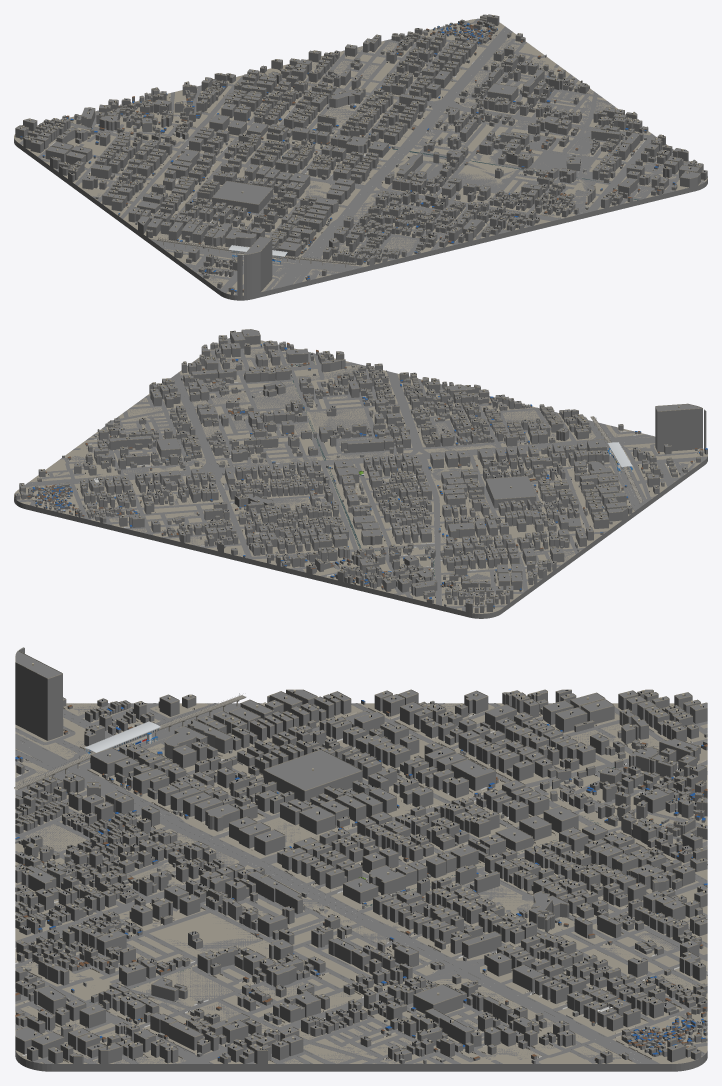
3 views of the same model, one above another, from view 1: azimuth 30°, elevation 25°; view 2: azimuth 150°, elevation 25°; view 3: azimuth 270°, elevation 25° (orthographic). The views are drawn at different scales.
Parts seen in each view (by area): view 1: context, ground, rooftops, plinth, compound_walls, metro; view 2: context, ground, rooftops, plinth, compound_walls; view 3: context, ground, rooftops, plinth, compound_walls, stations, metro.
Boxes of the visible parts, x1,y1,x2,y2 form: context: (15, 14, 707, 295); ground: (14, 18, 707, 295); rooftops: (20, 15, 705, 274); plinth: (14, 138, 707, 300); compound_walls: (44, 23, 705, 294); metro: (157, 237, 356, 267); context: (14, 329, 707, 612); ground: (14, 338, 707, 613); rooftops: (17, 331, 685, 604); plinth: (14, 456, 707, 618); compound_walls: (30, 345, 703, 611); context: (15, 647, 707, 1063); ground: (15, 703, 707, 1063); rooftops: (18, 663, 706, 1054); plinth: (15, 1049, 707, 1071); compound_walls: (15, 702, 707, 1062); stations: (84, 721, 160, 753); metro: (14, 693, 246, 790).
Bounding box in the file's own units: 1418 × 130 × 1150.
